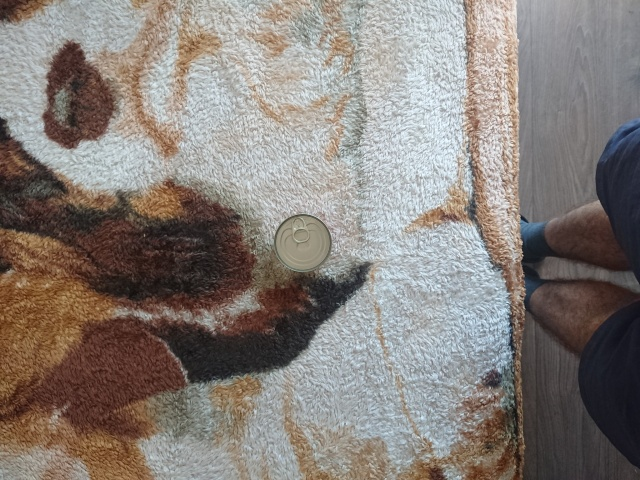Gavrilovic Pork Liver Pate 100g: (271, 211, 333, 274)
